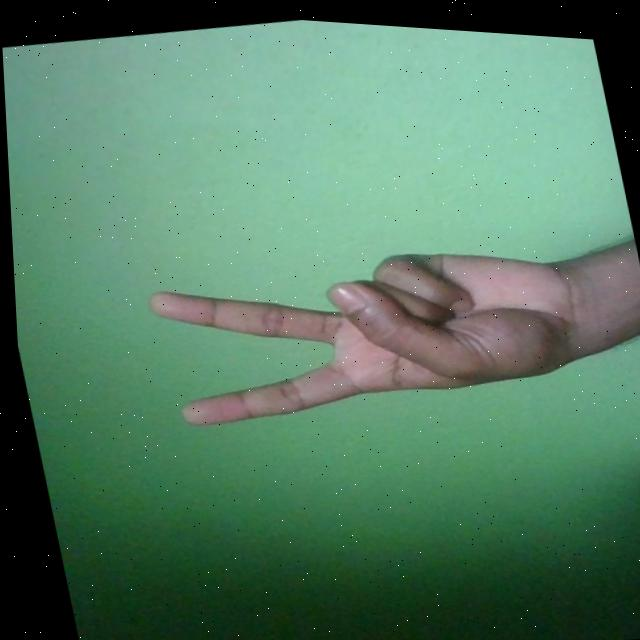Peace: (136, 207, 599, 448)
